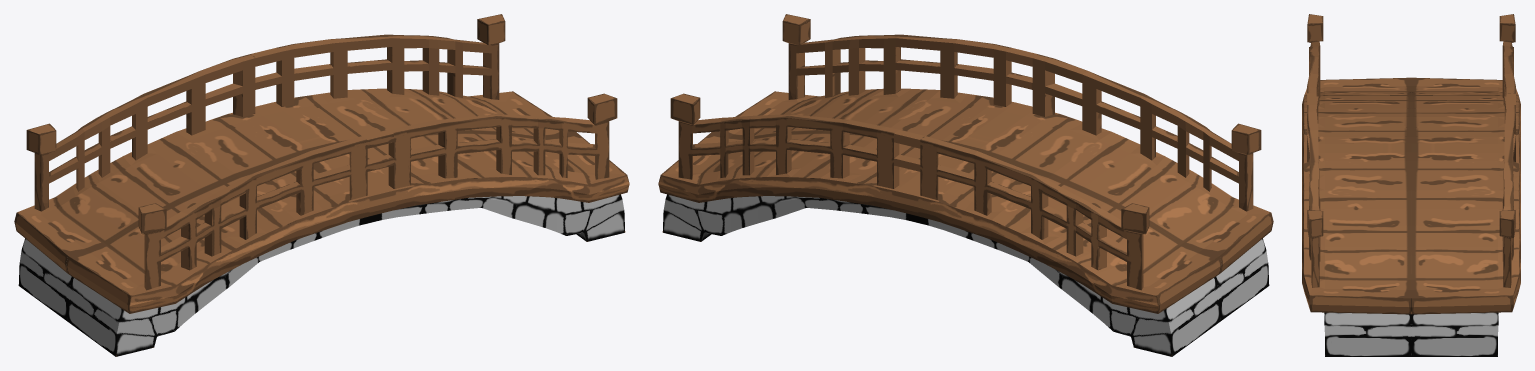
File: Brigde.fbx
The picture shows the model from 3 angles, left to right: view 1: azimuth 30°, elevation 25°; view 2: azimuth 150°, elevation 25°; view 3: azimuth 270°, elevation 25°; orthographic projection. The views are drawn at different scales.
Parts seen in each view (by area): view 1: Cube; view 2: Cube; view 3: Cube.
Boxes of the visible parts, box(x1,y1,x2,y2) form: Cube: box(14, 14, 629, 356); Cube: box(658, 14, 1273, 356); Cube: box(1302, 14, 1520, 356).
Bounding box in the file's own units: 13.36 × 4.12 × 5.56.
1 material, 1 textured.
